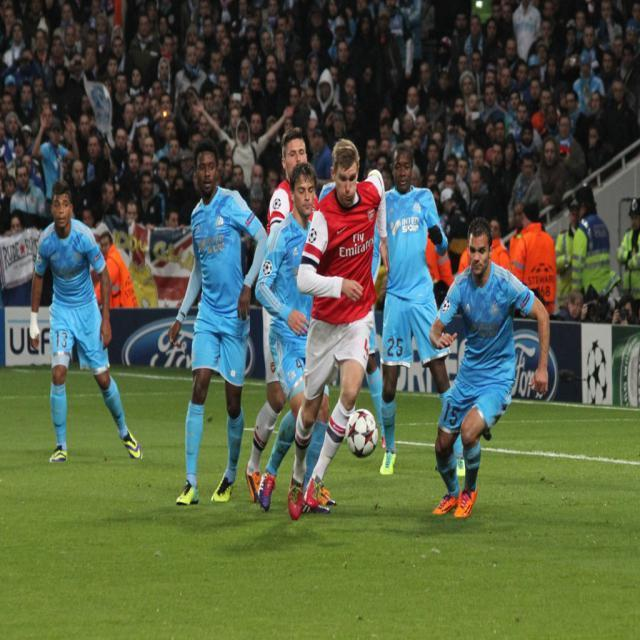football: (338, 403, 382, 472)
